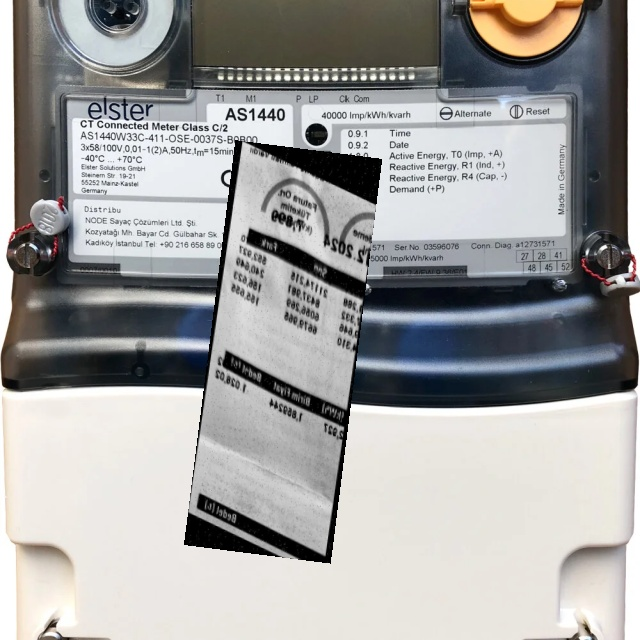electricity-bill: (183, 140, 381, 564)
